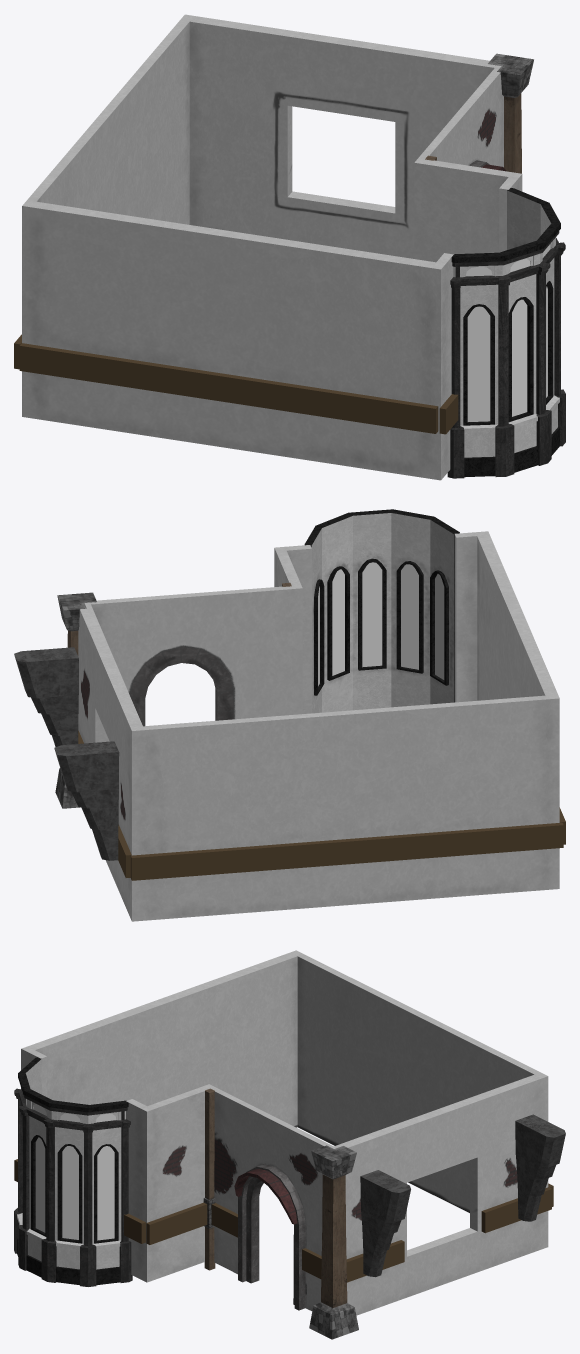
File: planta_baja.fbx
3 views of the same model, one above another, from view 1: azimuth 30°, elevation 25°; view 2: azimuth 150°, elevation 25°; view 3: azimuth 270°, elevation 25° (orthographic). The views are drawn at different scales.
Parts seen in each view (by area): view 1: paredes, Cube.106, ventanal fuera, Cube.091; view 2: paredes, Cube.106, ventanal fuera, Cube.091; view 3: Cube.106, paredes, ventanal fuera.
Boxes of the visible parts, x1=… form: paredes: x1=22, y1=15, x2=453, y2=480; Cube.106: x1=185, y1=14, x2=565, y2=462; ventanal fuera: x1=447, y1=240, x2=547, y2=478; Cube.091: x1=14, y1=334, x2=458, y2=434; paredes: x1=132, y1=531, x2=559, y2=921; Cube.106: x1=14, y1=509, x2=392, y2=920; ventanal fuera: x1=391, y1=509, x2=459, y2=707; Cube.091: x1=130, y1=807, x2=565, y2=880; Cube.106: x1=19, y1=1074, x2=565, y2=1339; paredes: x1=21, y1=950, x2=547, y2=1212; ventanal fuera: x1=14, y1=1057, x2=41, y2=1266.
Size of the model in its own units: 2792 by 1069 by 3012.
